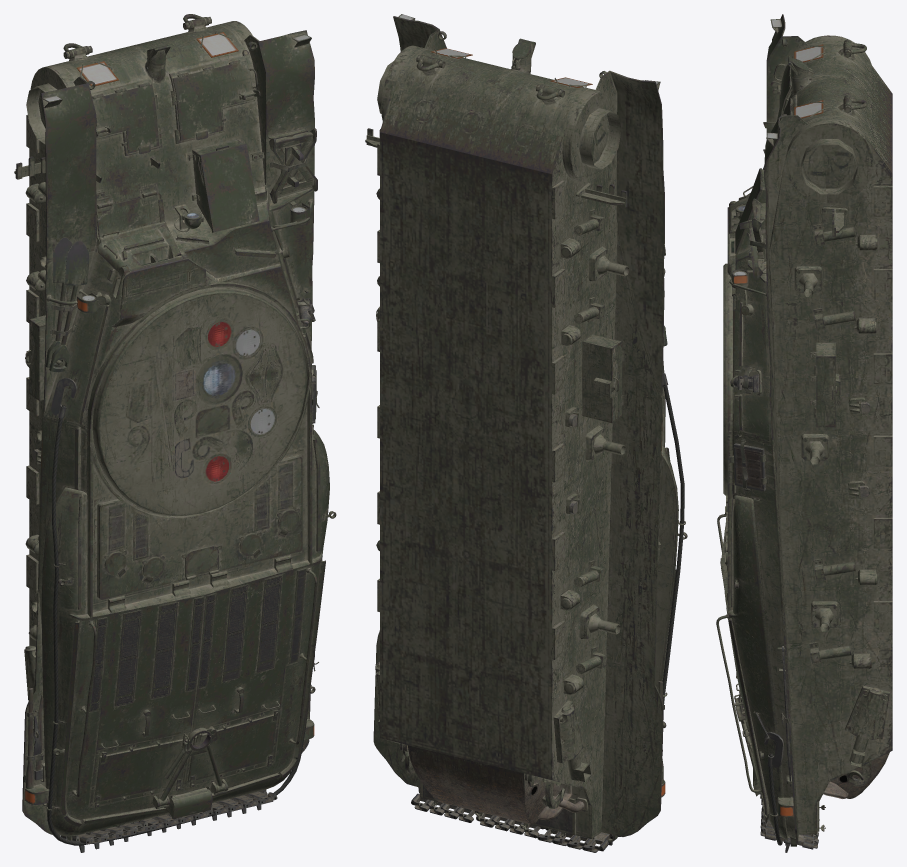
The model's file is Hull.glb.
3 views of the same model, side by side, from view 1: azimuth 30°, elevation 25°; view 2: azimuth 150°, elevation 25°; view 3: azimuth 270°, elevation 25° (orthographic). The views are drawn at different scales.
Parts seen in each view (by area): view 1: set_0_group_0; view 2: set_0_group_0; view 3: set_0_group_0.
Boxes of the visible parts, box(x1,y1,x2,y2) form: set_0_group_0: box(14, 14, 336, 852); set_0_group_0: box(365, 14, 687, 852); set_0_group_0: box(716, 14, 892, 852).
Size of the model in its own units: 2.39 by 6.25 by 1.34.
Materials: 1 (1 with a texture image).
